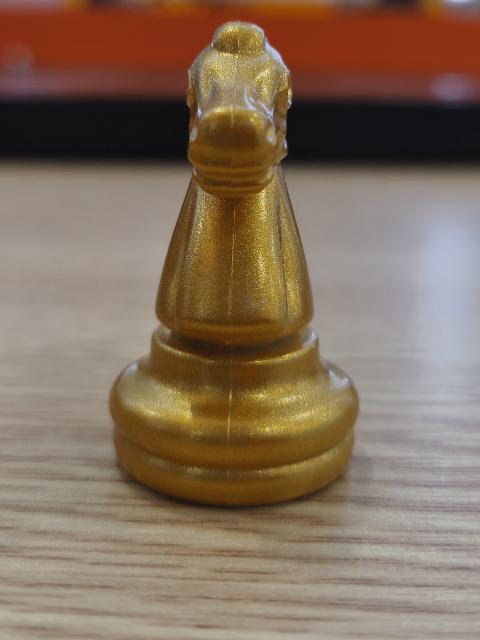black_knight: (105, 14, 363, 501)
